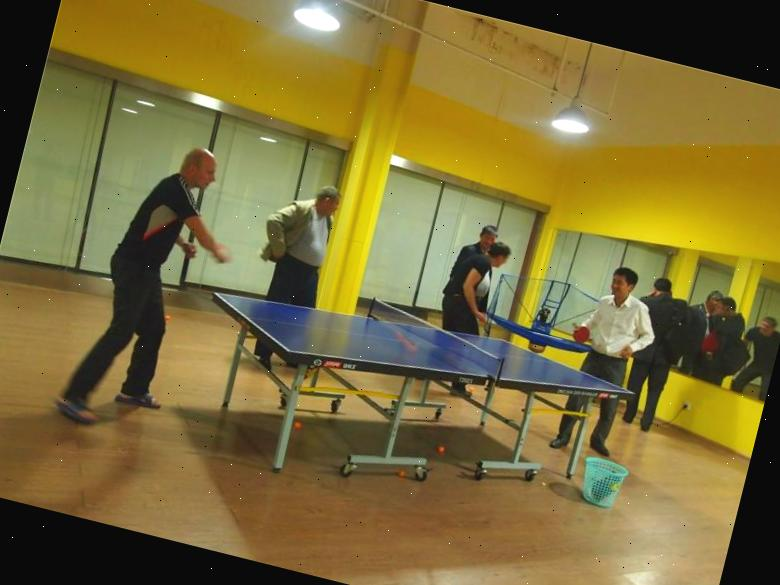ball: (393, 466, 408, 480), (290, 416, 304, 430), (433, 440, 446, 452), (161, 310, 172, 321)
